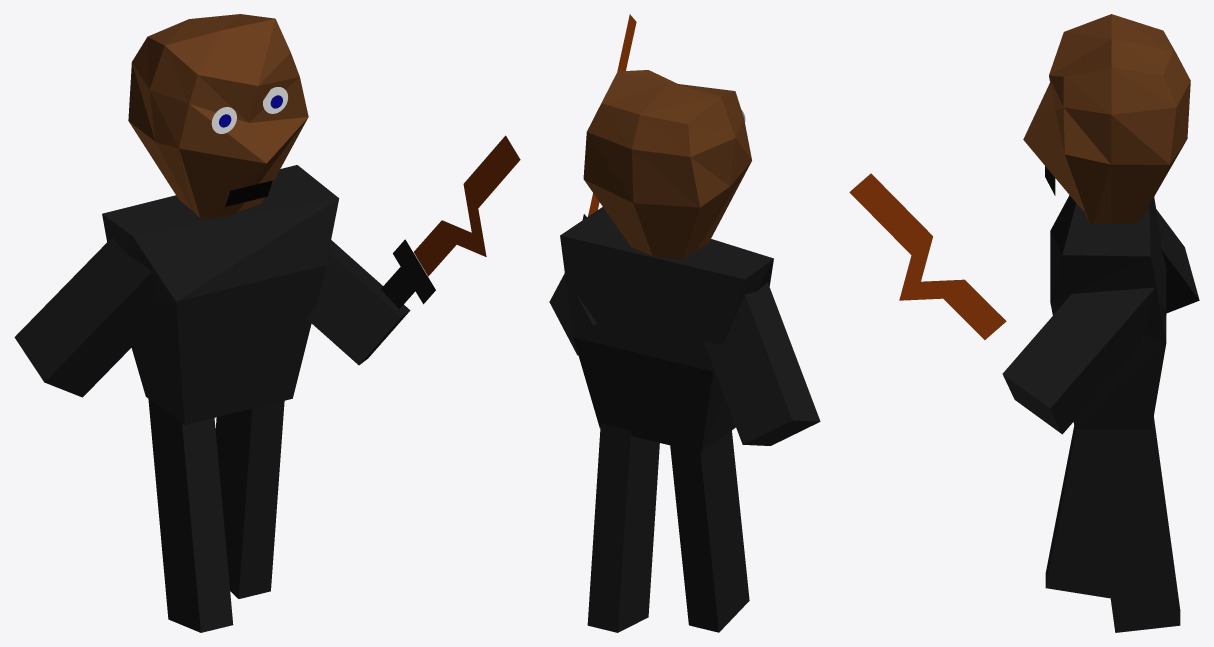
Rendered from swordsman1f.obj.
3 renders of one model, left to right at view 1: azimuth 30°, elevation 25°; view 2: azimuth 150°, elevation 25°; view 3: azimuth 270°, elevation 25°, orthographic. The views are drawn at different scales.
Visible parts, largest first — view 1: Cube.001, Cube, Cube.004, Cube.003, Cube.005, Cube.002, Plane.003_Plane.004, Plane.002_Plane.003, Plane.001_Plane.002; view 2: Cube.001, Cube, Cube.005, Cube.004, Cube.003, Cube.002, Plane.003_Plane.004; view 3: Cube, Cube.001, Cube.005, Cube.002, Cube.004, Plane.003_Plane.004, Cube.003.
Boxes of the visible parts, <box> form: Cube.001: <box>102,165,339,424</box>; Cube: <box>128,14,308,218</box>; Cube.004: <box>148,399,233,632</box>; Cube.003: <box>14,237,154,397</box>; Cube.005: <box>215,400,284,598</box>; Cube.002: <box>306,240,410,365</box>; Plane.003_Plane.004: <box>413,135,520,276</box>; Plane.002_Plane.003: <box>393,239,435,304</box>; Plane.001_Plane.002: <box>380,265,416,308</box>; Cube.001: <box>560,207,773,452</box>; Cube: <box>583,70,751,259</box>; Cube.005: <box>587,423,659,632</box>; Cube.004: <box>670,430,749,632</box>; Cube.003: <box>703,282,820,445</box>; Cube.002: <box>549,273,596,355</box>; Plane.003_Plane.004: <box>588,14,636,216</box>; Cube: <box>1023,14,1190,224</box>; Cube.001: <box>1050,195,1166,428</box>; Cube.005: <box>1087,416,1180,632</box>; Cube.002: <box>1002,287,1166,434</box>; Cube.004: <box>1045,426,1110,598</box>; Plane.003_Plane.004: <box>849,173,1006,339</box>; Cube.003: <box>1156,209,1199,313</box>.
Bounding box in the file's own units: 3.61 × 5.89 × 3.29.
